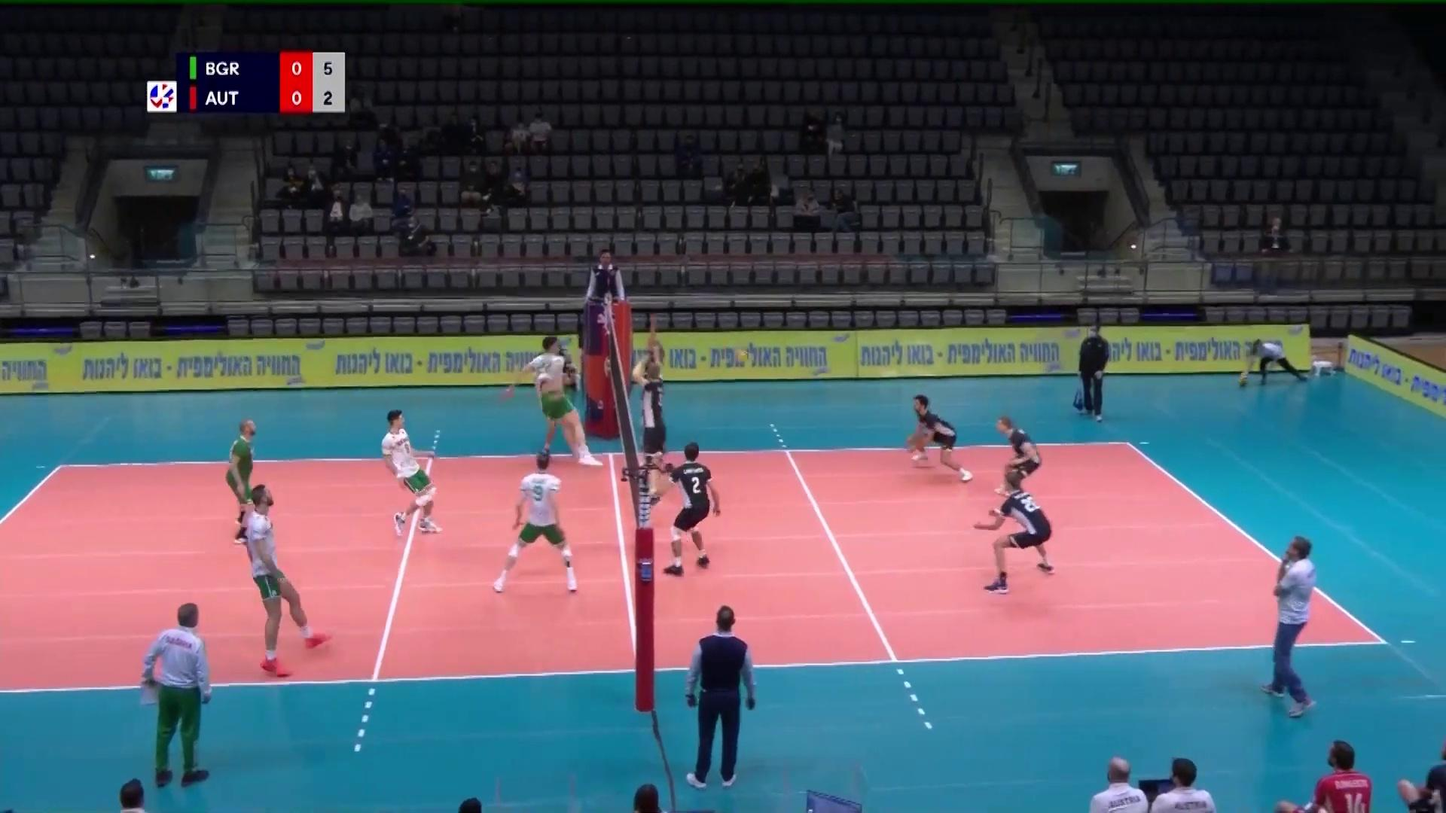ball: (735, 349, 748, 361)
